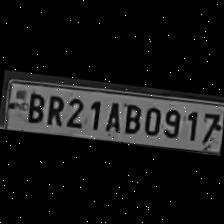0: (139, 100, 162, 136)
1: (83, 95, 105, 131), (180, 105, 200, 142)
2: (61, 94, 86, 130)
7: (196, 108, 220, 144)
9: (158, 102, 182, 138)
A: (100, 97, 123, 133)
B: (22, 88, 46, 124), (120, 98, 143, 134)
R: (42, 90, 64, 127)
